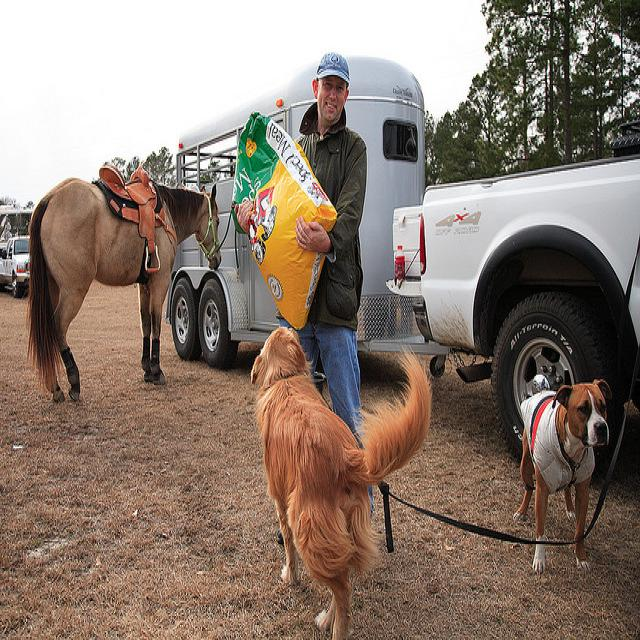Vehicle: (165, 54, 449, 372), (385, 155, 640, 463), (0, 236, 30, 299)
